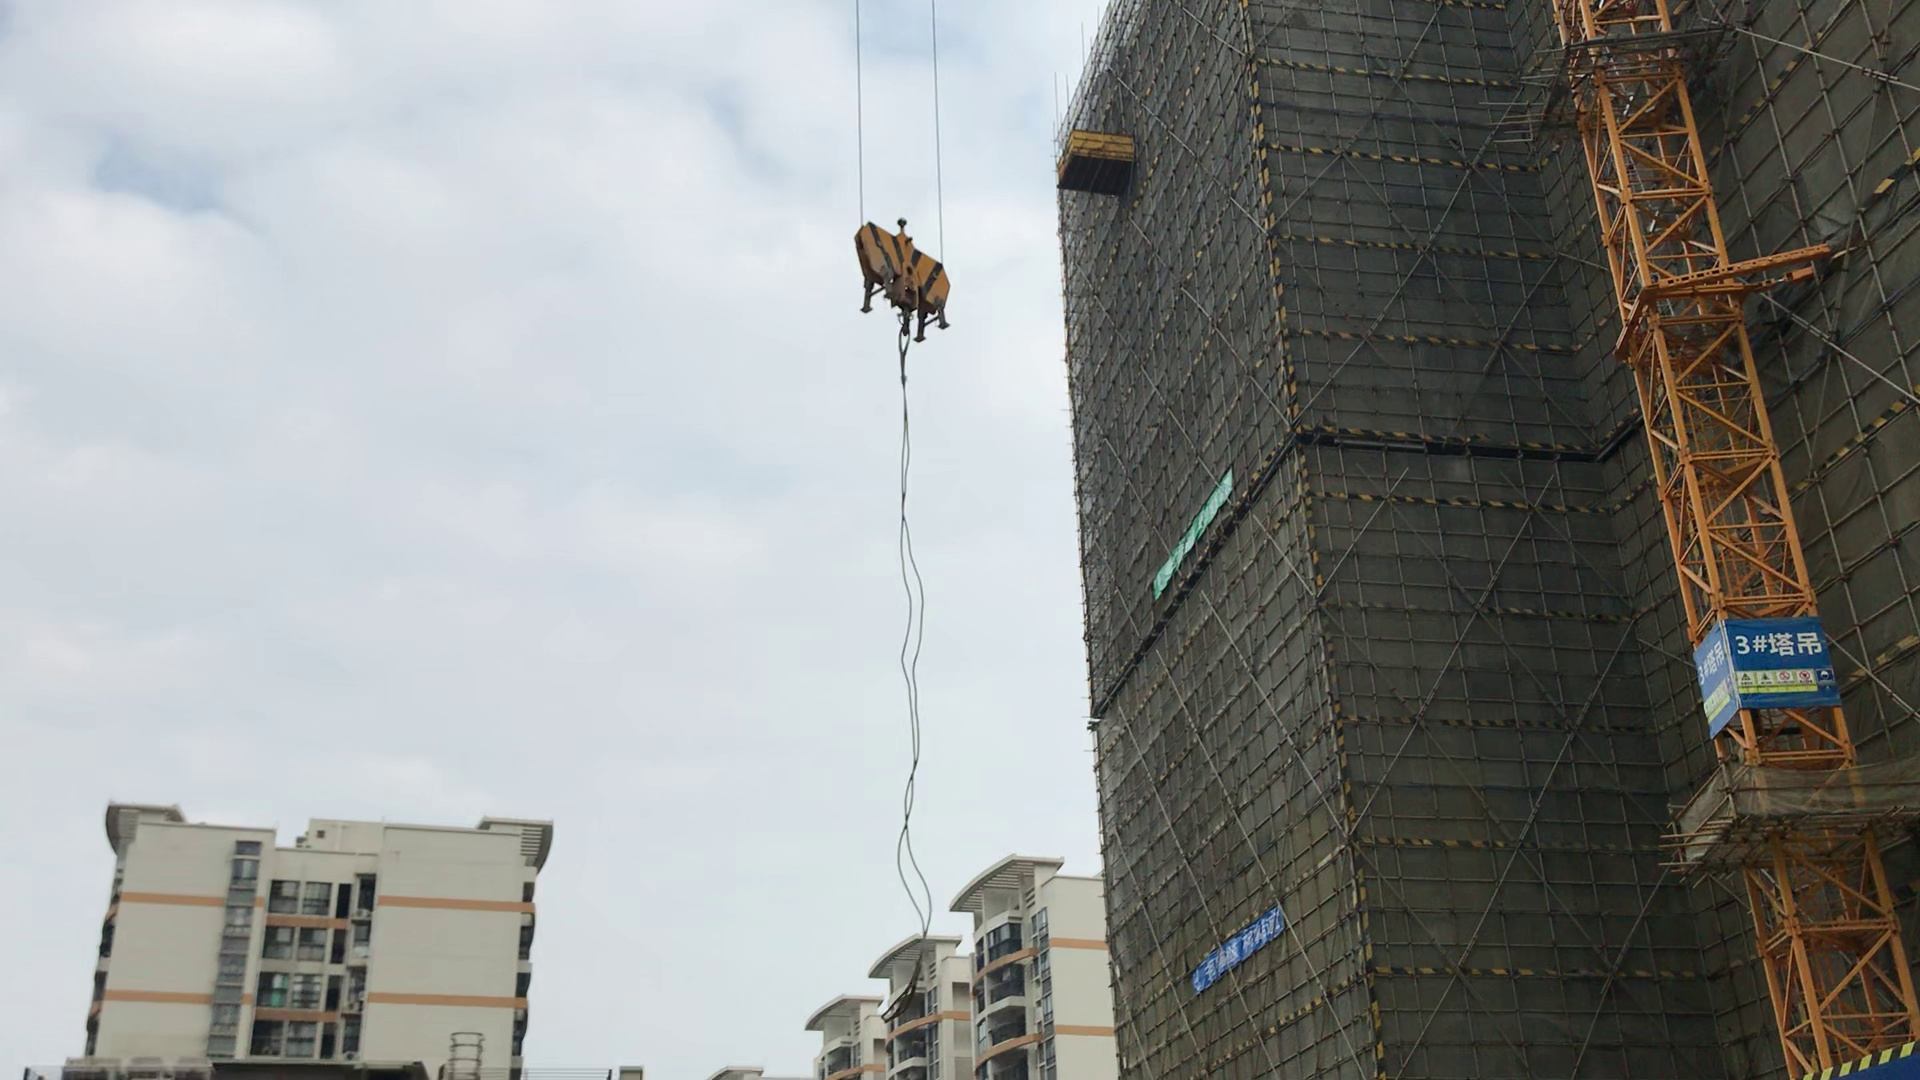hook: (849, 224, 971, 342)
slogan: (1146, 465, 1279, 585), (1185, 916, 1299, 996)
